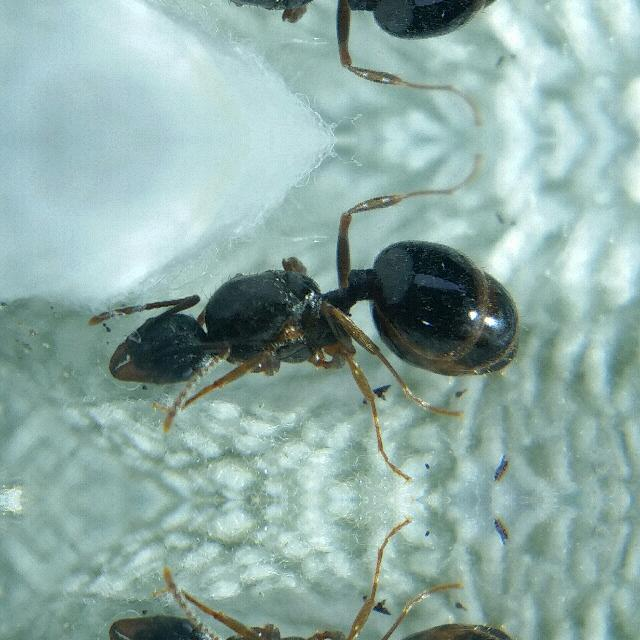Apheanogaster: (19, 202, 592, 446), (18, 554, 590, 640), (18, 0, 590, 78)
